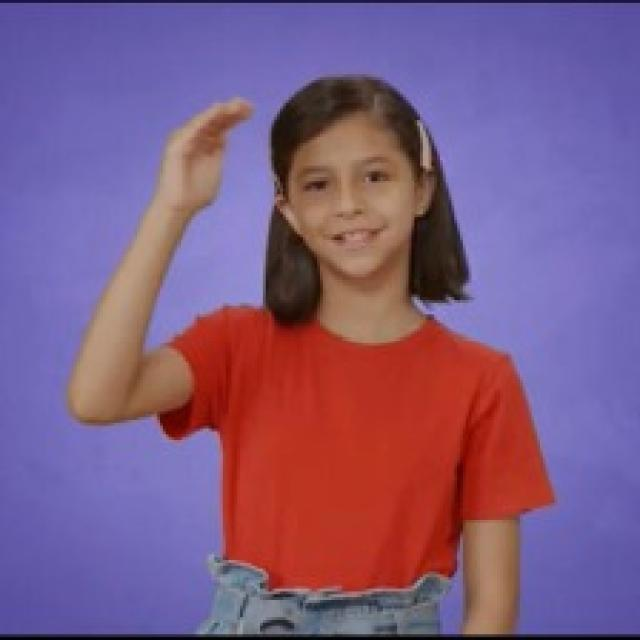Thanks: (155, 93, 258, 211)
